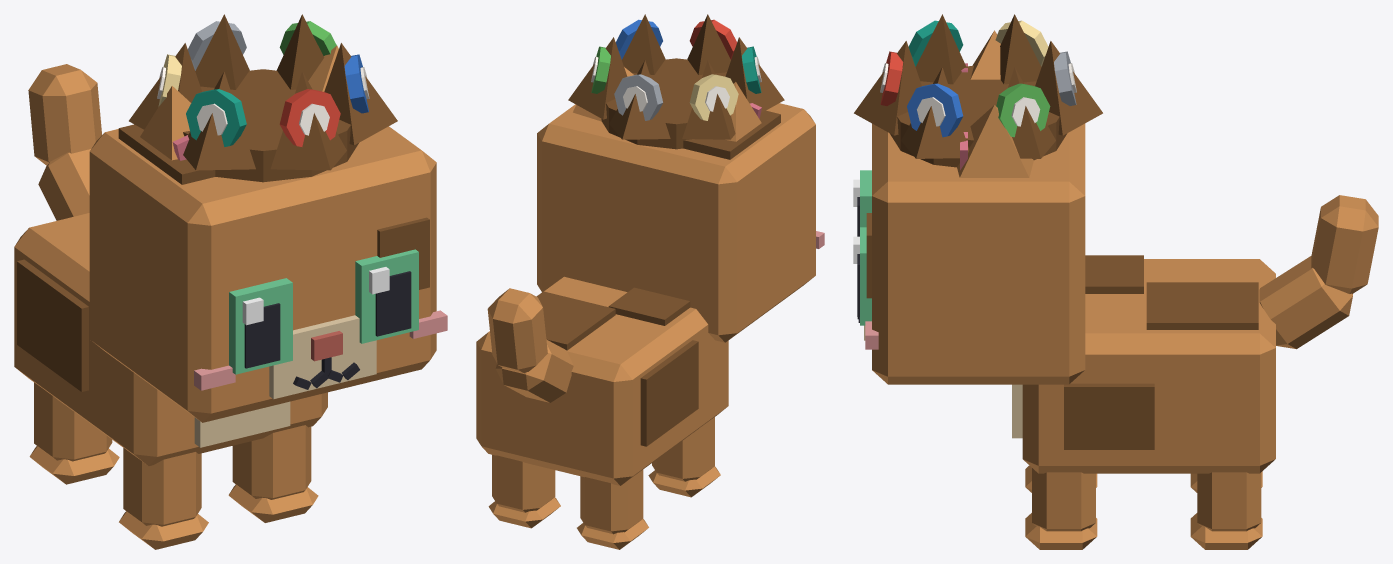
File: CatCafe_Cat_Bottlecap.glb
3 views of the same model, side by side, from view 1: azimuth 30°, elevation 25°; view 2: azimuth 150°, elevation 25°; view 3: azimuth 270°, elevation 25° (orthographic). The views are drawn at different scales.
Visible parts, largest first — view 1: CatCafe_Cat_Bottlecap_Head, CatCafe_Cat_Bottlecap_Prop, CatCafe_Cat_Bottlecap_Body, CatCafe_Cat_Bottlecap_Tail, CatCafe_Cat_Bottlecap_LegF2, CatCafe_Cat_Bottlecap_LegF1, CatCafe_Cat_Bottlecap_Eye2, CatCafe_Cat_Bottlecap_LegB2, CatCafe_Cat_Bottlecap_Eye1, CatCafe_Cat_Bottlecap_EarR, CatCafe_Cat_Bottlecap_EarL; view 2: CatCafe_Cat_Bottlecap_Head, CatCafe_Cat_Bottlecap_Body, CatCafe_Cat_Bottlecap_Prop, CatCafe_Cat_Bottlecap_Tail, CatCafe_Cat_Bottlecap_LegB2, CatCafe_Cat_Bottlecap_LegB1, CatCafe_Cat_Bottlecap_LegF2, CatCafe_Cat_Bottlecap_EarR; view 3: CatCafe_Cat_Bottlecap_Head, CatCafe_Cat_Bottlecap_Body, CatCafe_Cat_Bottlecap_Prop, CatCafe_Cat_Bottlecap_Tail, CatCafe_Cat_Bottlecap_LegB1, CatCafe_Cat_Bottlecap_LegF1, CatCafe_Cat_Bottlecap_EarL, CatCafe_Cat_Bottlecap_Eye1, CatCafe_Cat_Bottlecap_EarR, CatCafe_Cat_Bottlecap_Eye2.
Part boxes in pixels (x1,y1,x2,y2): CatCafe_Cat_Bottlecap_Head: [89, 124, 447, 422]; CatCafe_Cat_Bottlecap_Prop: [129, 14, 397, 182]; CatCafe_Cat_Bottlecap_Body: [14, 213, 327, 465]; CatCafe_Cat_Bottlecap_Tail: [28, 64, 101, 220]; CatCafe_Cat_Bottlecap_LegF2: [119, 448, 208, 549]; CatCafe_Cat_Bottlecap_LegF1: [228, 425, 318, 522]; CatCafe_Cat_Bottlecap_Eye2: [229, 278, 292, 374]; CatCafe_Cat_Bottlecap_LegB2: [29, 382, 119, 484]; CatCafe_Cat_Bottlecap_Eye1: [355, 249, 418, 343]; CatCafe_Cat_Bottlecap_EarR: [140, 86, 191, 160]; CatCafe_Cat_Bottlecap_EarL: [308, 45, 338, 91]; CatCafe_Cat_Bottlecap_Head: [537, 103, 824, 342]; CatCafe_Cat_Bottlecap_Body: [476, 276, 728, 485]; CatCafe_Cat_Bottlecap_Prop: [568, 14, 784, 149]; CatCafe_Cat_Bottlecap_Tail: [487, 288, 573, 402]; CatCafe_Cat_Bottlecap_LegB2: [577, 469, 648, 549]; CatCafe_Cat_Bottlecap_LegB1: [488, 455, 560, 528]; CatCafe_Cat_Bottlecap_LegF2: [648, 417, 720, 497]; CatCafe_Cat_Bottlecap_EarR: [725, 82, 761, 141]; CatCafe_Cat_Bottlecap_Head: [857, 123, 1085, 384]; CatCafe_Cat_Bottlecap_Body: [1012, 255, 1275, 473]; CatCafe_Cat_Bottlecap_Prop: [854, 14, 1102, 167]; CatCafe_Cat_Bottlecap_Tail: [1259, 195, 1378, 349]; CatCafe_Cat_Bottlecap_LegB1: [1190, 472, 1262, 549]; CatCafe_Cat_Bottlecap_LegF1: [1025, 468, 1097, 549]; CatCafe_Cat_Bottlecap_EarL: [957, 105, 1033, 177]; CatCafe_Cat_Bottlecap_Eye1: [853, 227, 871, 325]; CatCafe_Cat_Bottlecap_EarR: [961, 30, 1000, 79]; CatCafe_Cat_Bottlecap_Eye2: [853, 170, 871, 236].
Bounding box in the file's own units: 1 × 1.97 × 1.97.
1 material, 1 textured.
